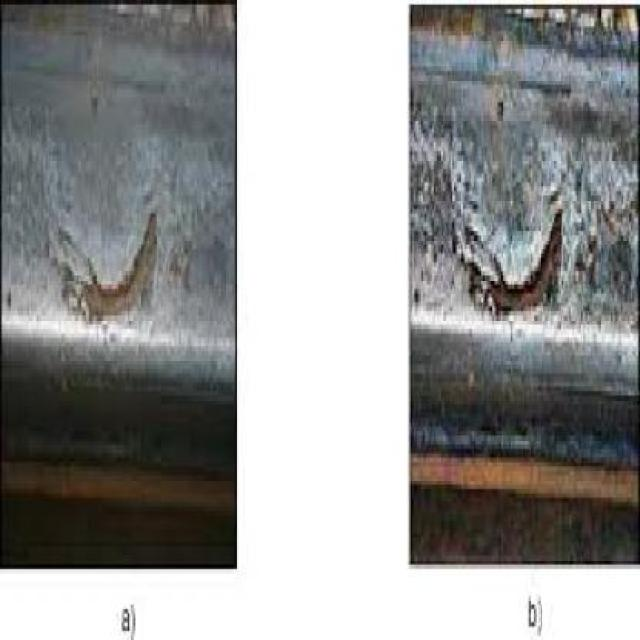defective: (7, 2, 244, 566), (413, 6, 640, 563)
